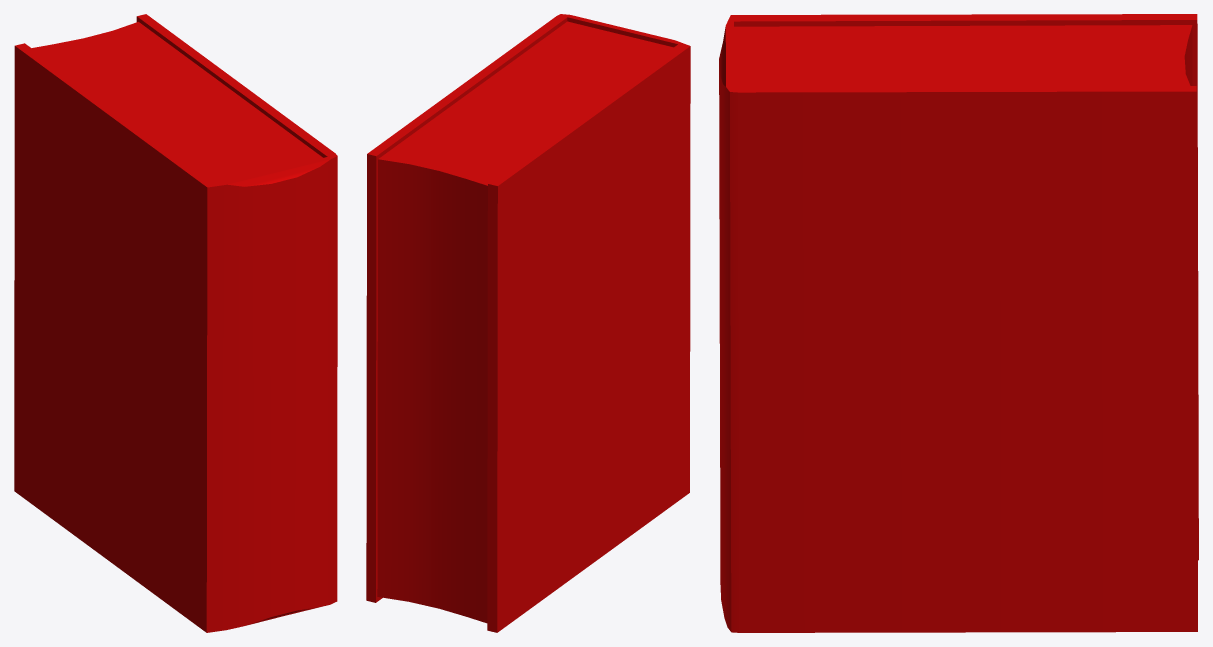
Rendered from Attic_Book_05_LP.glb.
3 renders of one model, left to right at view 1: azimuth 30°, elevation 25°; view 2: azimuth 150°, elevation 25°; view 3: azimuth 270°, elevation 25°, orthographic. The views are drawn at different scales.
Parts seen in each view (by area): view 1: Attic_Book_05_LP; view 2: Attic_Book_05_LP; view 3: Attic_Book_05_LP.
Part boxes in pixels (left/top/right/bottom): Attic_Book_05_LP: left=14, top=14, right=337, bottom=632; Attic_Book_05_LP: left=366, top=14, right=690, bottom=632; Attic_Book_05_LP: left=719, top=14, right=1198, bottom=632.
Bounding box in the file's own units: 0.1146 × 0.3734 × 0.2999.
